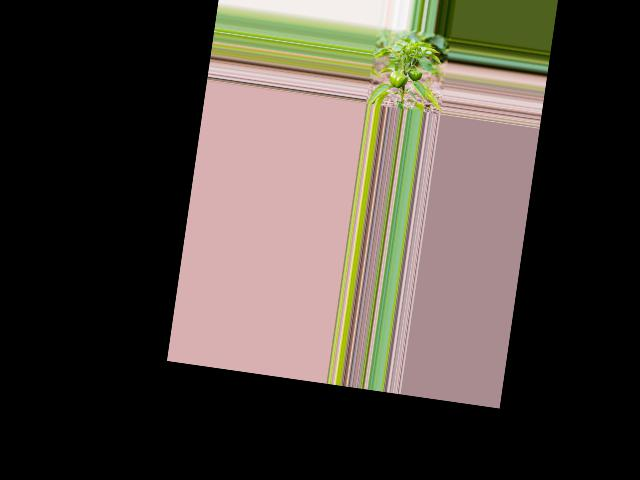bell_pepper: (407, 67, 423, 83)
